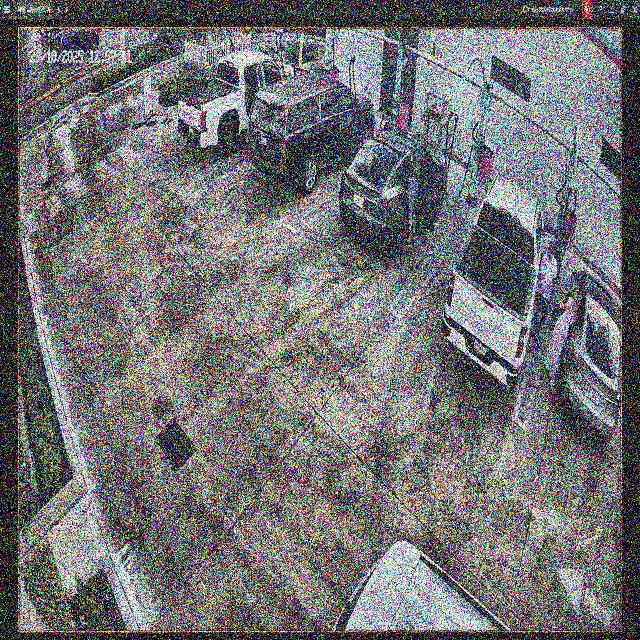Car: (442, 173, 538, 388), (246, 77, 373, 192), (341, 129, 445, 248), (176, 49, 296, 152)
